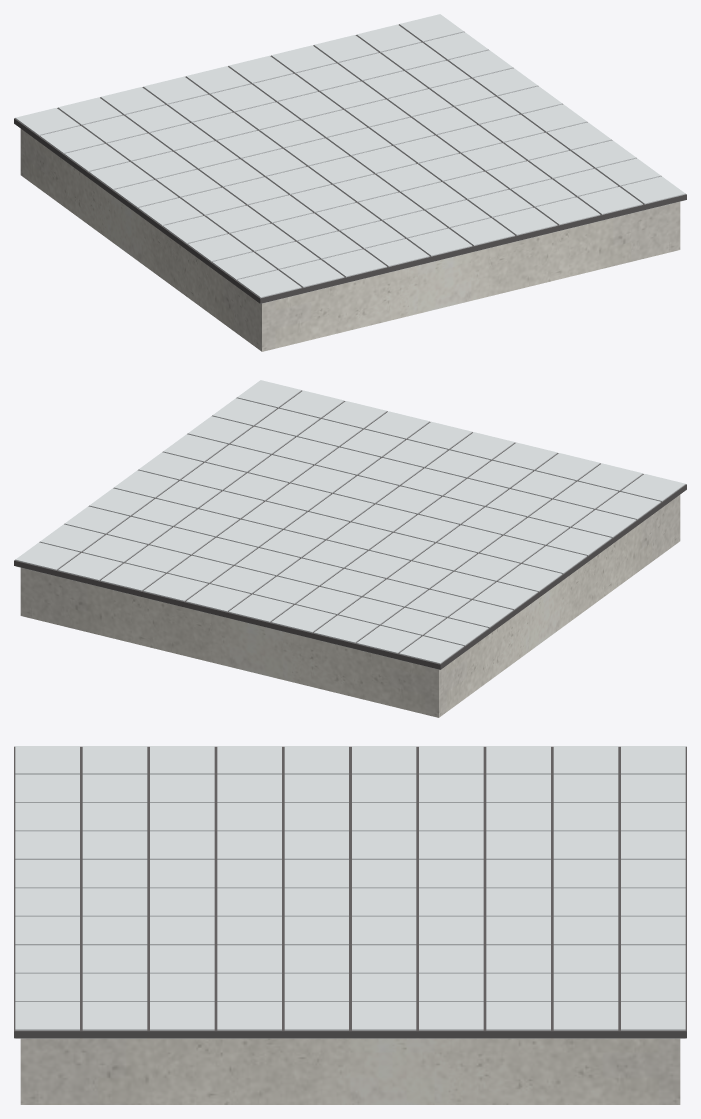
Rendered from floor_tile_bath.glb.
3 views of the same model, one above another, from view 1: azimuth 30°, elevation 25°; view 2: azimuth 150°, elevation 25°; view 3: azimuth 270°, elevation 25° (orthographic). The views are drawn at different scales.
Parts seen in each view (by area): view 1: floor_tile_bath_tile, floor_tile_bath_plaster, floor_tile_bath_dark; view 2: floor_tile_bath_tile, floor_tile_bath_plaster, floor_tile_bath_dark; view 3: floor_tile_bath_tile, floor_tile_bath_plaster, floor_tile_bath_dark.
Boxes of the visible parts, x1,y1,x2,y2 form: floor_tile_bath_tile: (15, 14, 685, 303); floor_tile_bath_plaster: (20, 129, 680, 351); floor_tile_bath_dark: (14, 24, 686, 303); floor_tile_bath_tile: (15, 380, 685, 669); floor_tile_bath_plaster: (20, 495, 680, 717); floor_tile_bath_dark: (14, 390, 686, 669); floor_tile_bath_tile: (15, 746, 685, 1038); floor_tile_bath_plaster: (20, 1038, 680, 1104); floor_tile_bath_dark: (14, 746, 686, 1038).
Size of the model in its own units: 2 by 0.255 by 2.
3 materials, 1 textured.
